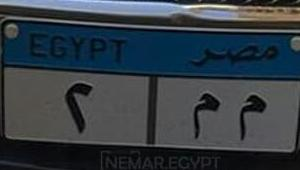2: (58, 76, 100, 135)
meem: (232, 88, 269, 147), (185, 86, 221, 146)
